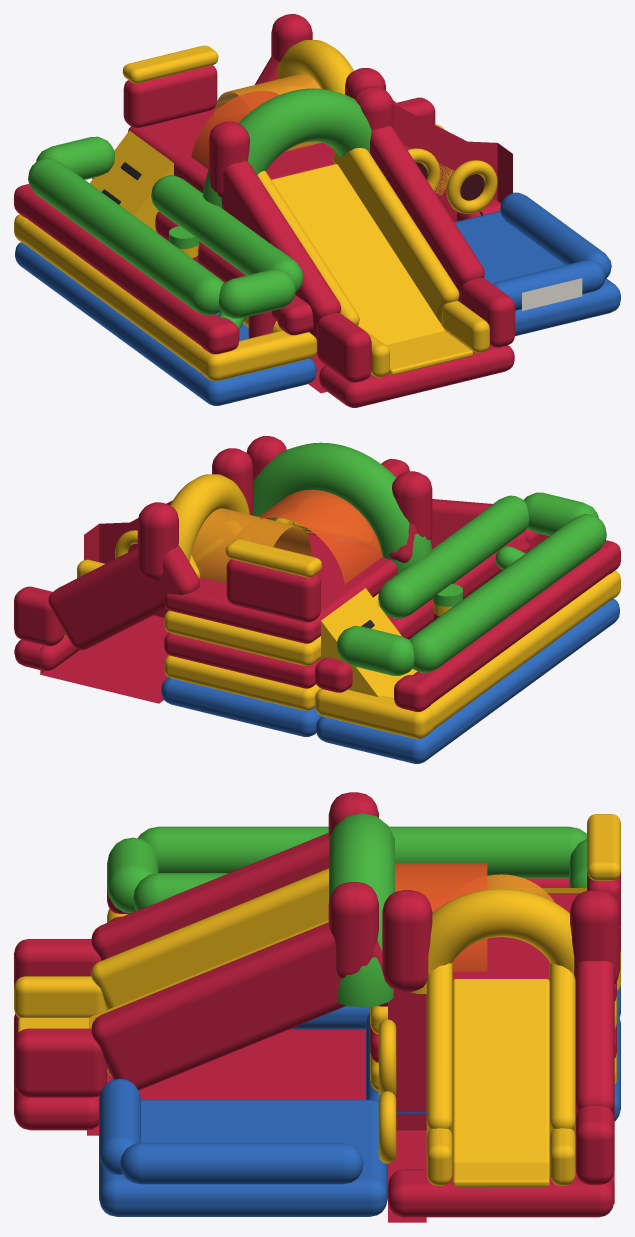
Rendered from megatobogan-v4.glb.
The picture shows the model from 3 angles, top to bottom: view 1: azimuth 30°, elevation 25°; view 2: azimuth 150°, elevation 25°; view 3: azimuth 270°, elevation 25°; orthographic projection. The views are drawn at different scales.
Visible parts, largest first — view 1: rojo, amarillo, verde, azul, malla, naranja, cartel, hueco; view 2: rojo, verde, amarillo, azul, malla, naranja; view 3: rojo, amarillo, azul, verde, malla, naranja.
Part boxes in pixels (x1,y1,x2,y2): rojo: [14, 14, 515, 407]; amarillo: [14, 40, 497, 381]; verde: [28, 88, 371, 330]; azul: [15, 192, 620, 405]; malla: [191, 91, 279, 169]; naranja: [214, 73, 322, 151]; cartel: [522, 278, 582, 310]; hueco: [415, 162, 484, 200]; rojo: [14, 436, 620, 711]; verde: [252, 442, 606, 675]; amarillo: [64, 474, 620, 739]; azul: [161, 599, 619, 763]; malla: [259, 489, 382, 583]; naranja: [191, 508, 311, 583]; rojo: [14, 792, 620, 1222]; amarillo: [14, 814, 620, 1186]; azul: [99, 985, 620, 1216]; verde: [107, 813, 586, 1007]; malla: [395, 863, 487, 971]; naranja: [487, 874, 554, 902].
Bounding box in the file's own units: 7.5 × 3.5 × 7.5.
